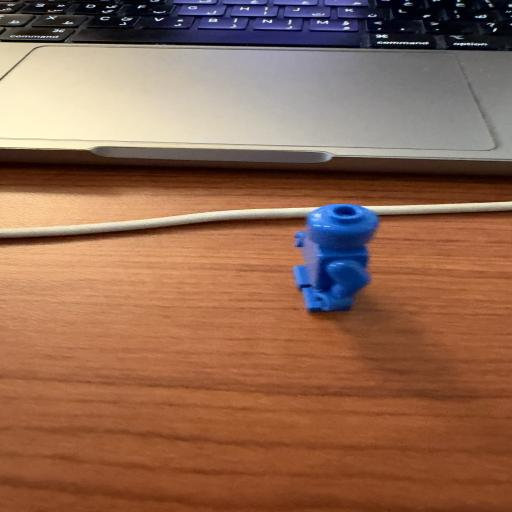blue_minifig: (291, 203, 380, 314)
